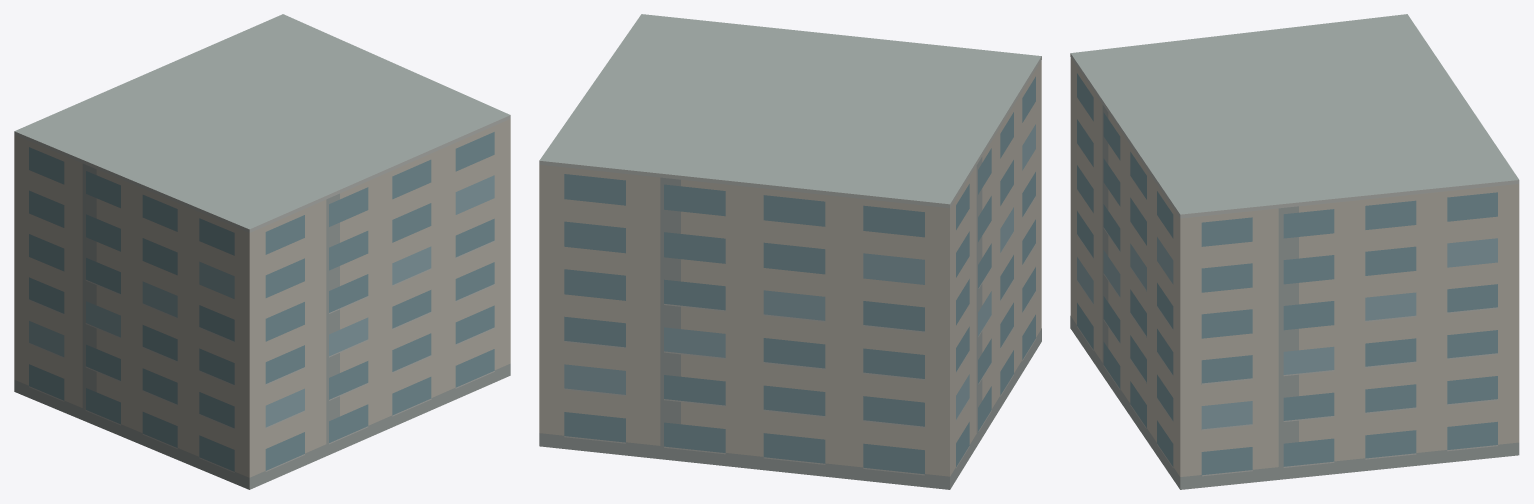
Rendered from survey-upis-32562655.glb.
3 renders of one model, left to right at view 1: azimuth 30°, elevation 25°; view 2: azimuth 150°, elevation 25°; view 3: azimuth 270°, elevation 25°, orthographic. The views are drawn at different scales.
Parts seen in each view (by area): view 1: survey-upis-32562655.tmp; view 2: survey-upis-32562655.tmp; view 3: survey-upis-32562655.tmp.
Boxes of the visible parts, x1,y1,x2,y2 form: survey-upis-32562655.tmp: (14, 14, 510, 489); survey-upis-32562655.tmp: (539, 14, 1041, 489); survey-upis-32562655.tmp: (1070, 14, 1519, 489).
Bounding box in the file's own units: 27.43 × 17.55 × 25.94.
